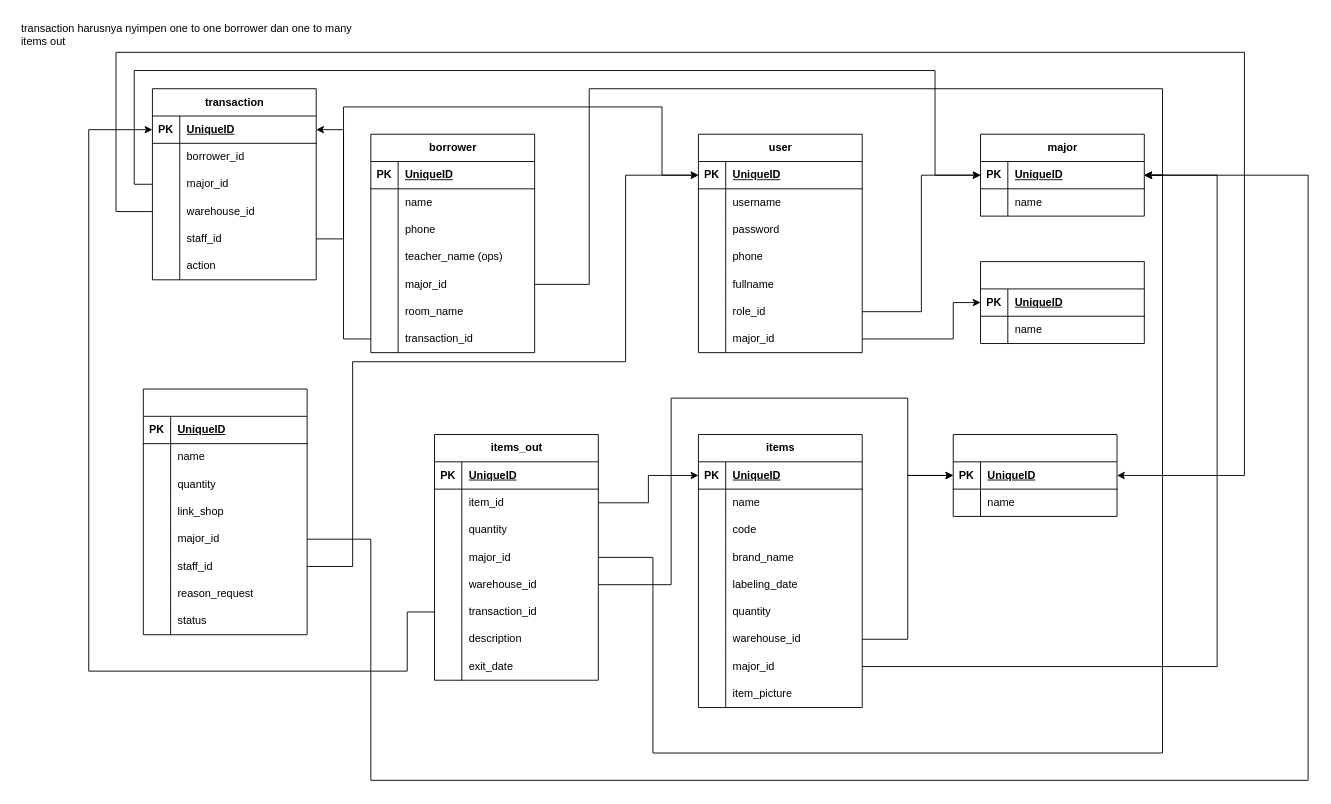
The diagram is 1331 pixels wide and 804 high, and some of its shapes have lost their labels. Here are the shapes that lost their labels. From the top down, the box of each, then its label:
(980, 261, 1144, 344): role
(952, 434, 1117, 516): warehouse
(142, 388, 307, 635): request_item
